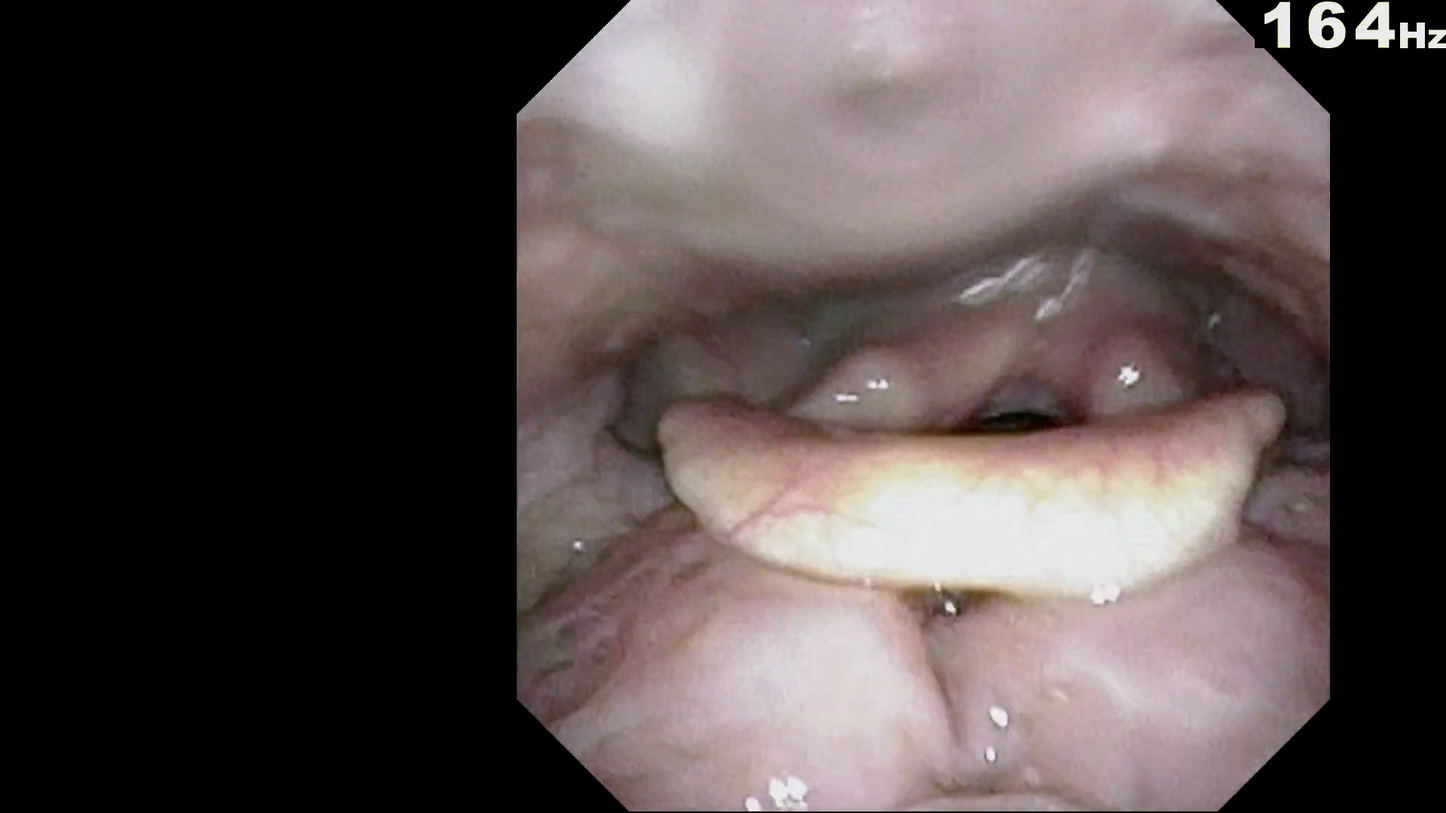epiglottis: (658, 440, 1291, 584)
